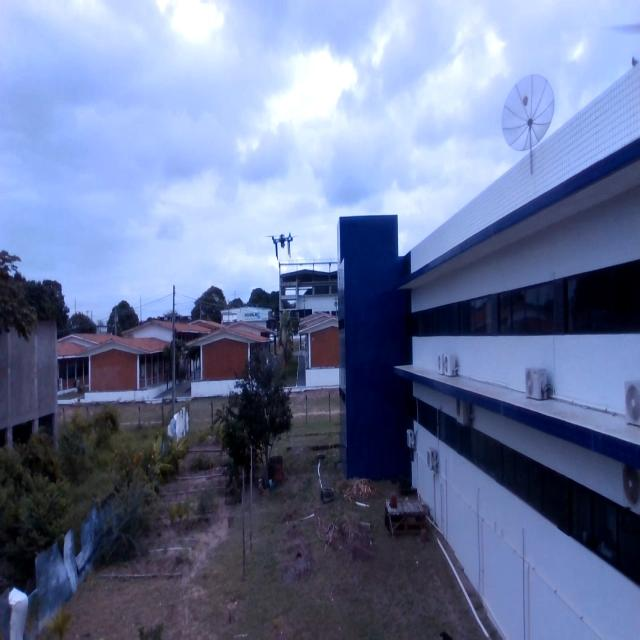-uav-: (267, 219, 296, 270)
